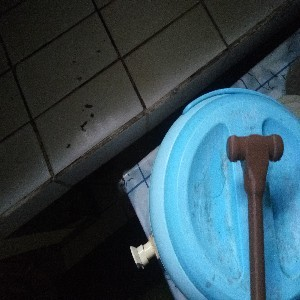palu: (225, 132, 285, 298)
